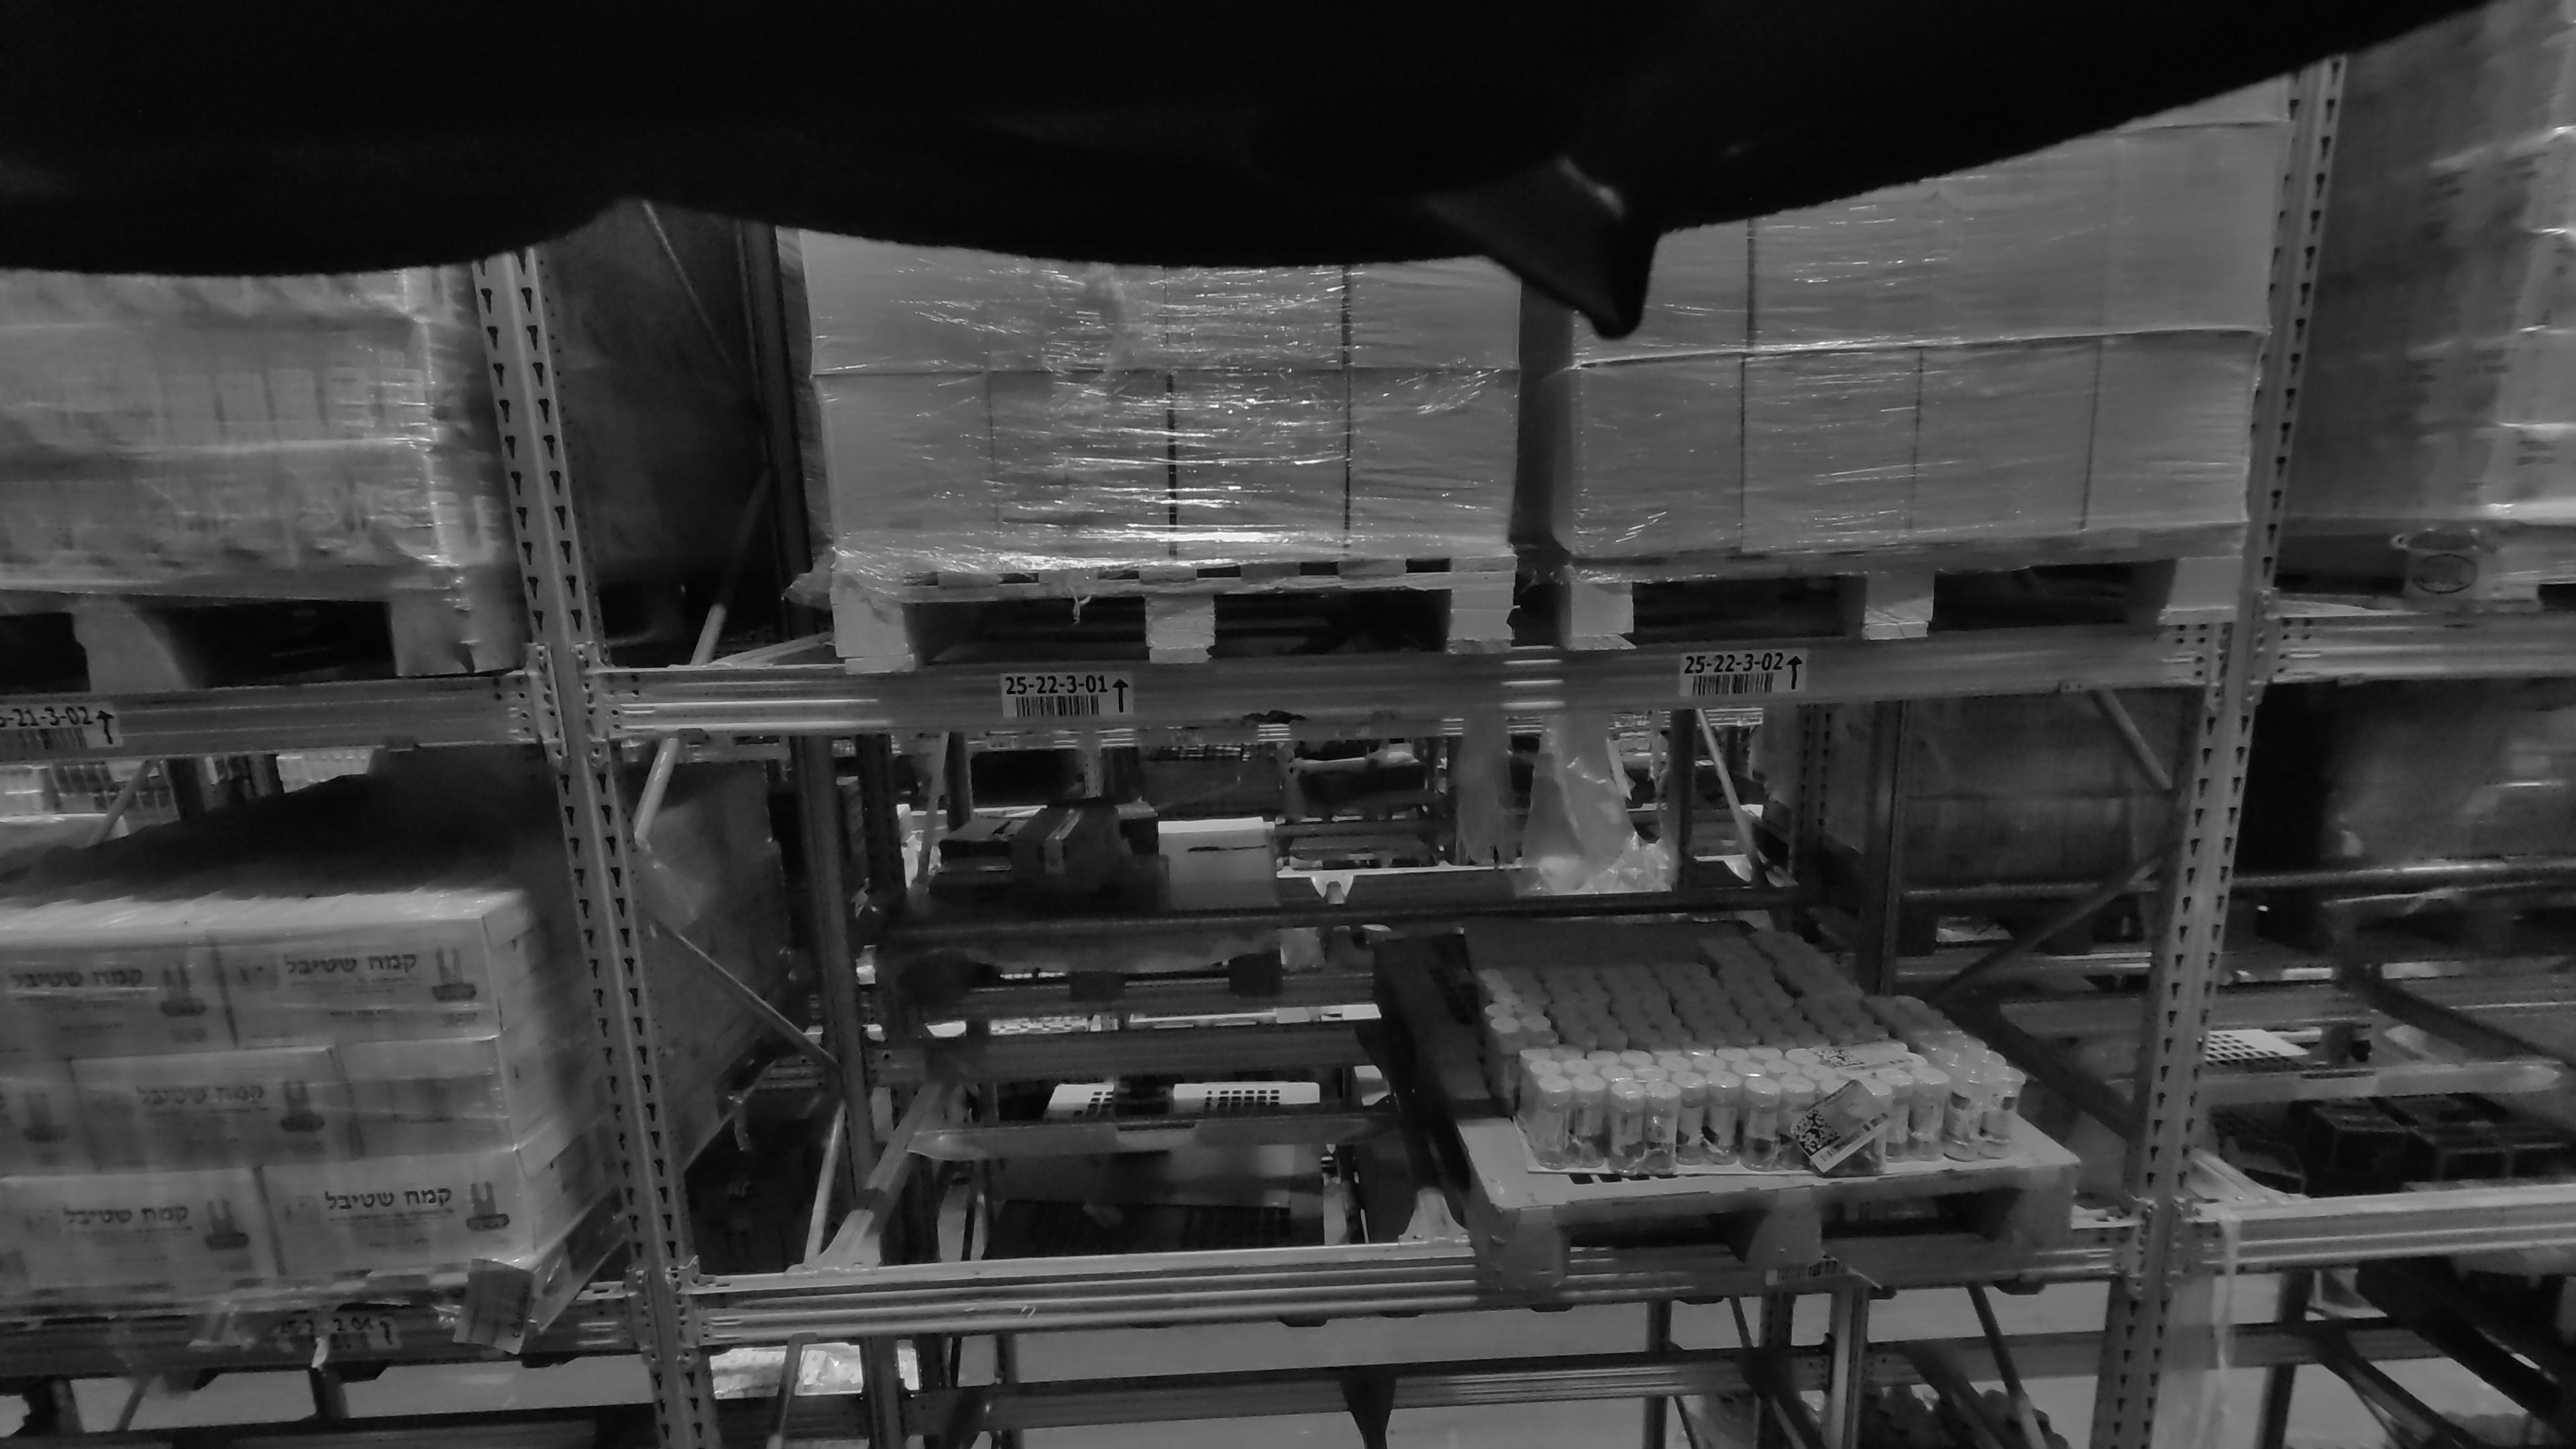empty-shelf: (736, 738, 1408, 1231), (2261, 679, 2576, 1187)
